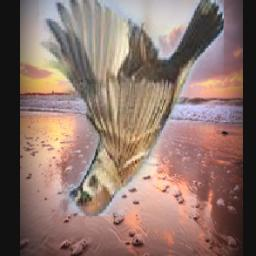Sparrow: (39, 0, 224, 216)
